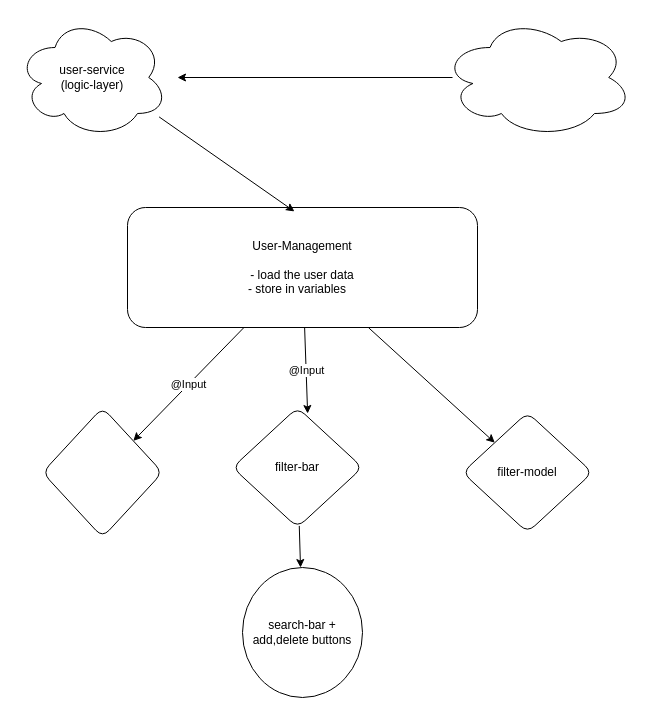
Some shapes in this 650 by 715 pixel diagram are drawn without their labels. Each missing label, with the box of its shape:
user-repo (data-layer): (442, 16, 632, 138)
user-table: (42, 406, 162, 538)
